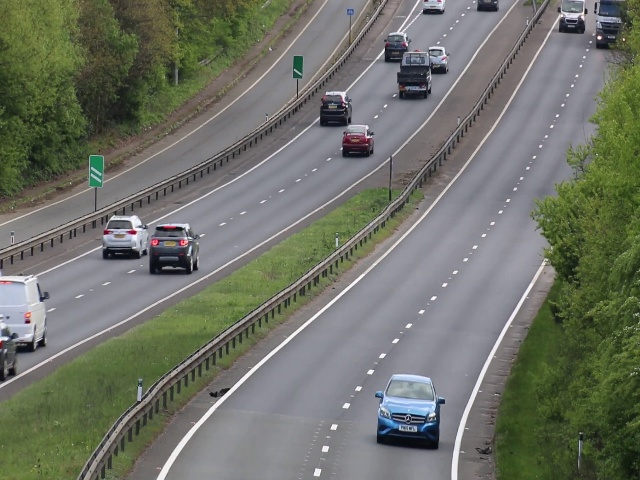car: (378, 372, 441, 451), (1, 273, 50, 349), (150, 224, 200, 277), (103, 214, 148, 260), (398, 50, 431, 101), (595, 1, 625, 50), (320, 89, 353, 126), (343, 123, 375, 157), (556, 1, 586, 35), (385, 30, 408, 64), (430, 44, 449, 75), (421, 1, 448, 14), (476, 1, 501, 12)
